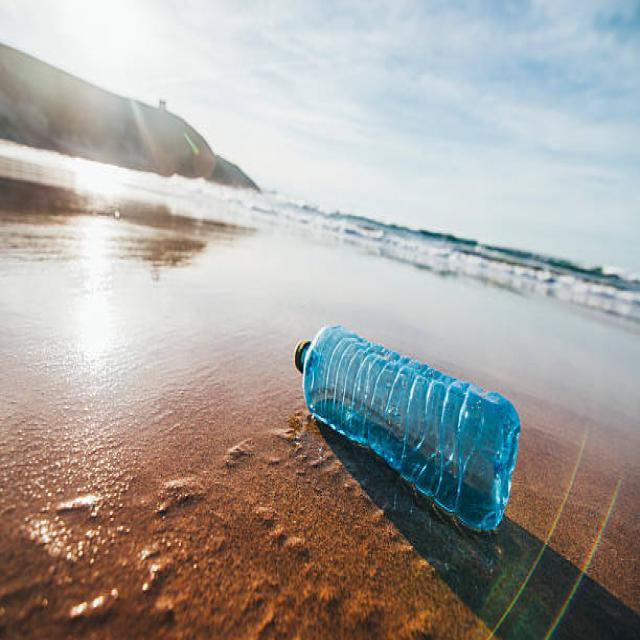plastic: (300, 326, 525, 537)
